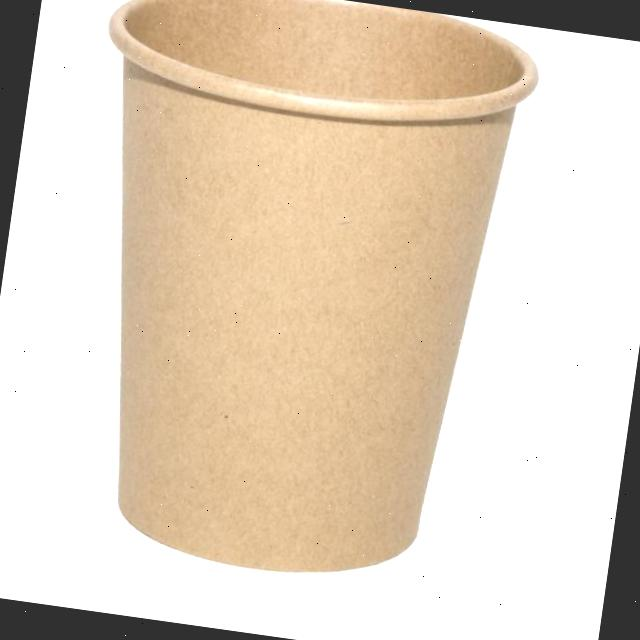trash: (27, 0, 551, 599)
